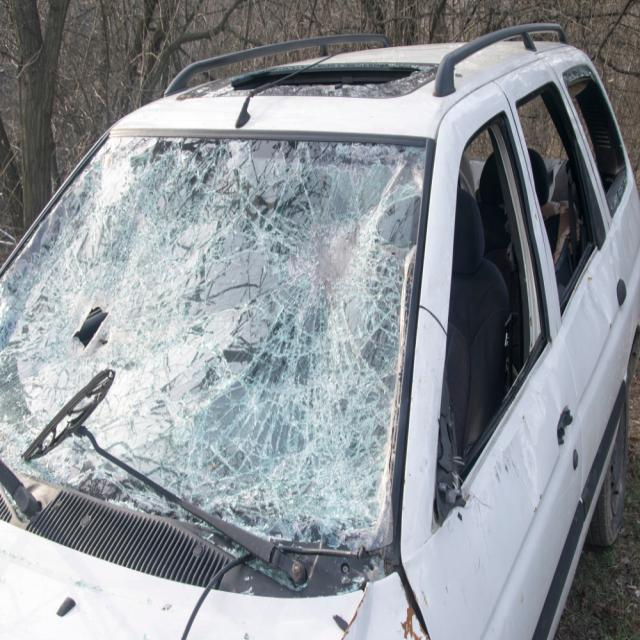Windshield: (18, 111, 420, 564)
